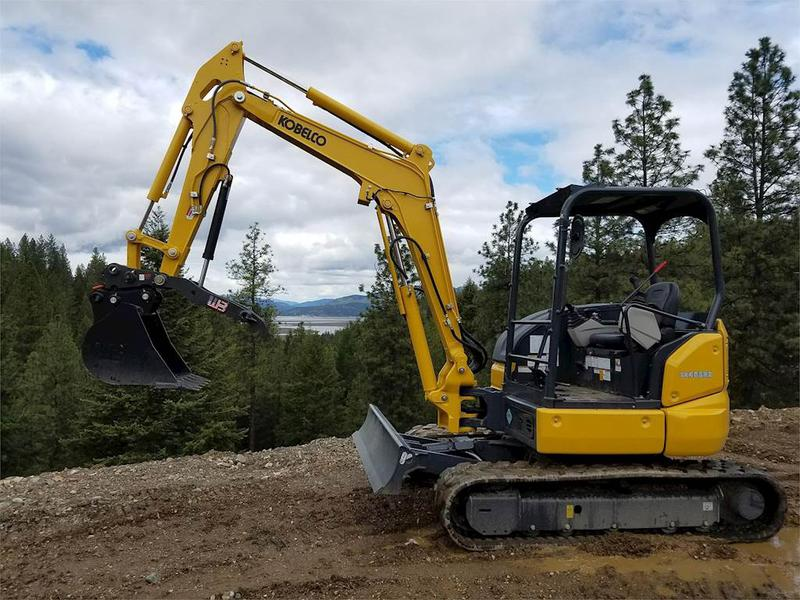shovel: (65, 30, 797, 554)
